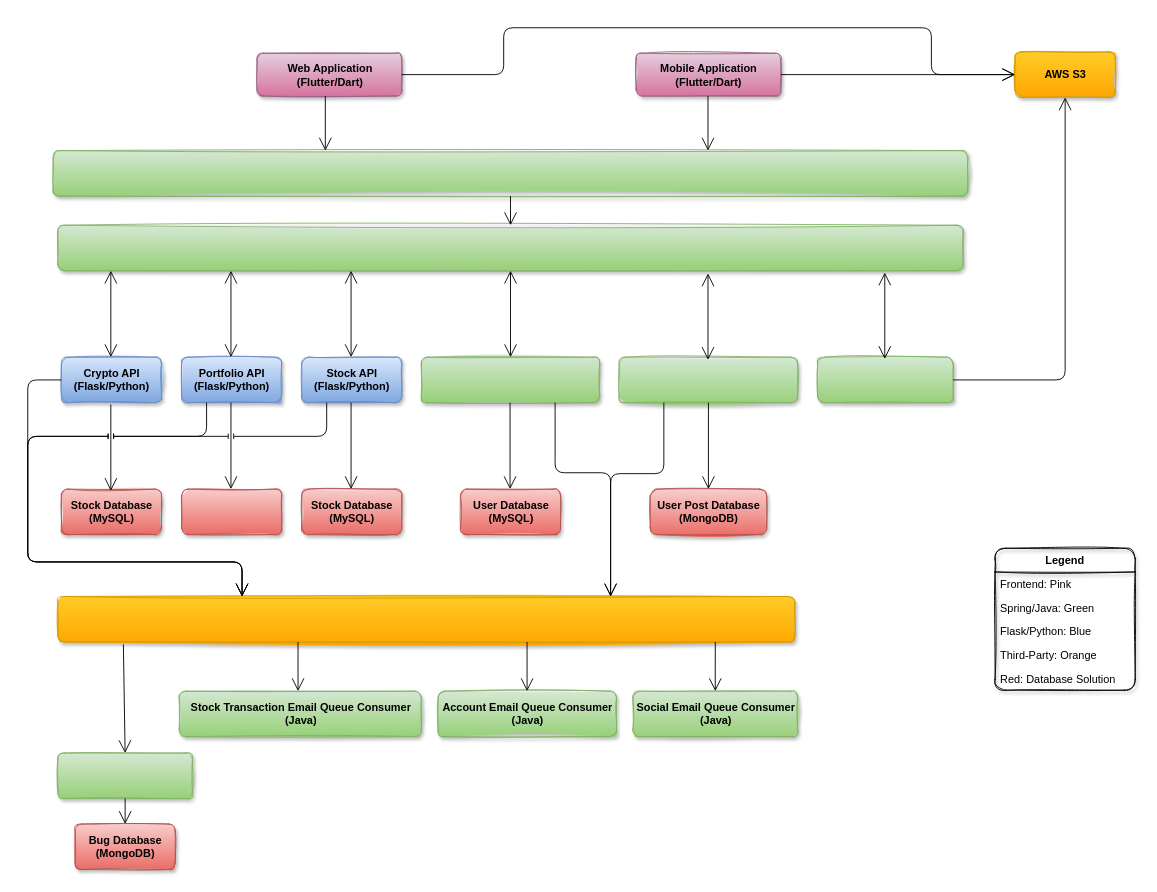
Some shapes in this 1157 by 892 pixel diagram are drawn without their labels. The shapes that lost their labels are listed below. From the top down, each one's centre as x and y in pixels, then its label:
(x=511, y=174): API Gateway (Spring Cloud/Java)
(x=511, y=249): Registration Service (Spring Cloud/Java)
(x=511, y=381): User API (Spring Boot/Java)
(x=709, y=381): User Social API (Spring Boot/Java)
(x=886, y=381): AWS Pre-Sign URL API (Spring Boot/Java)
(x=232, y=513): Portfolio Database (MySQL)
(x=426, y=620): RabbitMQ
(x=125, y=776): Bug Report Consumer (Java)
